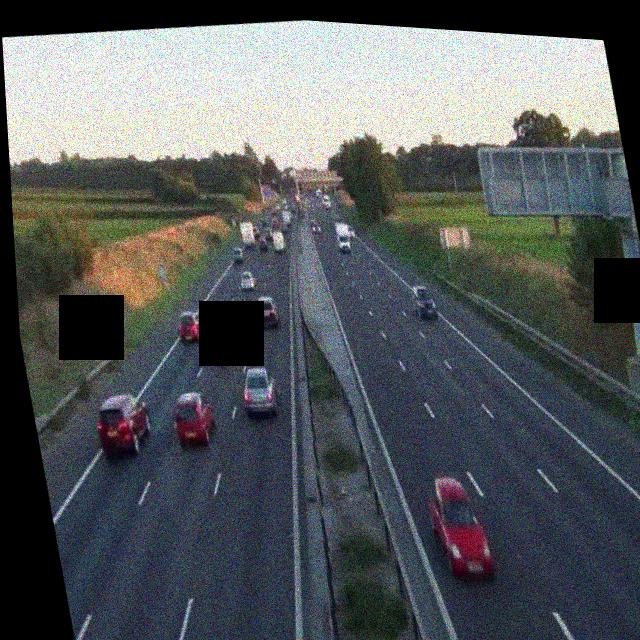car: (421, 471, 496, 583), (91, 391, 155, 459), (168, 389, 218, 449), (238, 363, 281, 419), (205, 321, 238, 363), (174, 306, 206, 343), (408, 281, 438, 320), (253, 293, 281, 328), (237, 267, 255, 292), (229, 247, 244, 265), (256, 233, 269, 250), (311, 219, 321, 233)
truck: (333, 218, 355, 253), (239, 218, 257, 245), (271, 230, 285, 252), (280, 206, 293, 228), (320, 190, 333, 211)
